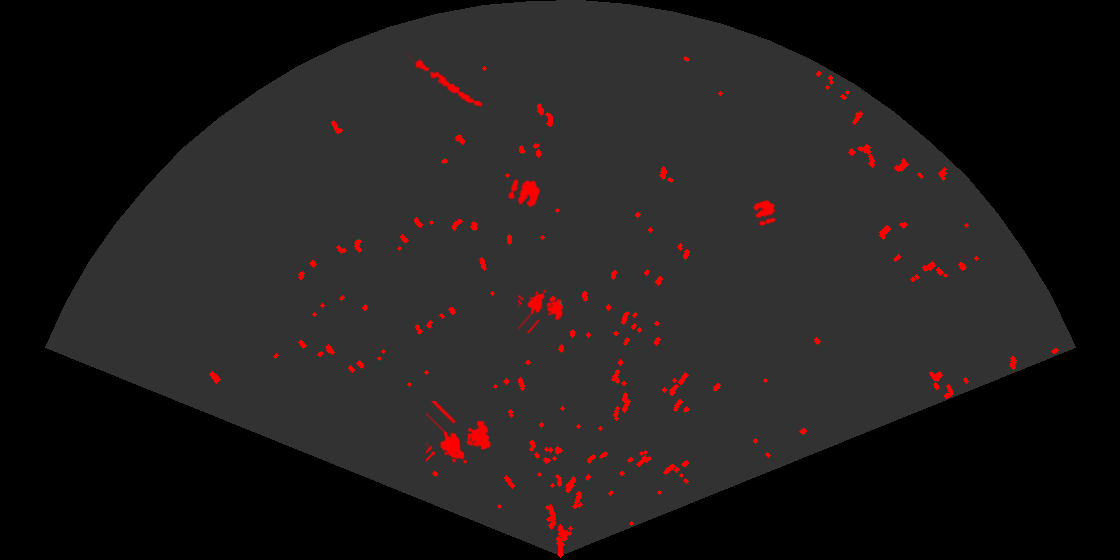ball: (506, 177, 542, 209), (751, 198, 777, 228)
cage: (426, 401, 493, 465), (518, 288, 565, 333)
chain: (404, 52, 484, 108)
